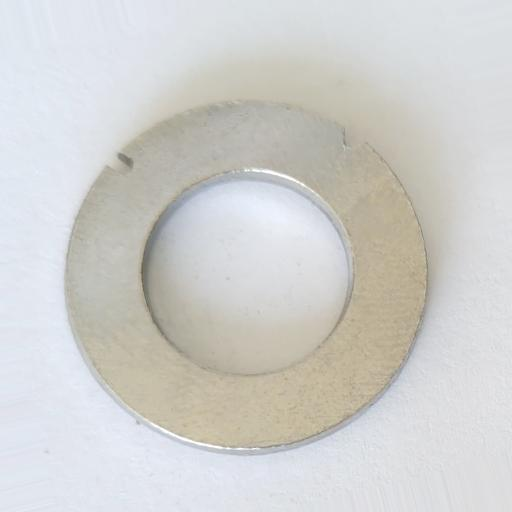burr: (106, 152, 134, 176), (342, 127, 368, 150)
